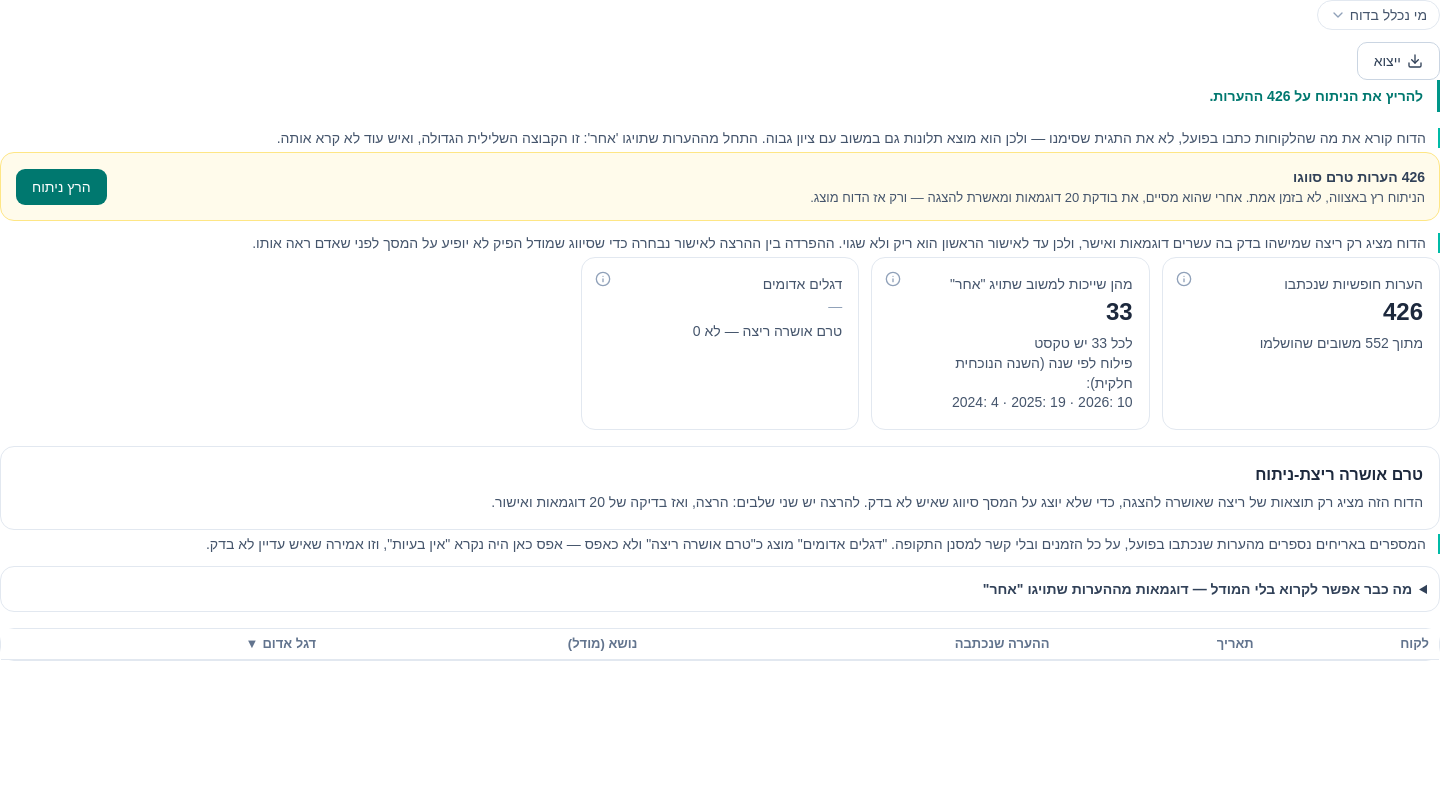
מ22 · ניתוח הערות + מ25 · פס-הניתוח › 409 "ריצת-ניתוח כבר פועלת" מציג את מצב-הריצה, ולא ריצה שנכשלה
Click the button with test id "m25-run-button" at (61, 187), box [15,168,108,206]
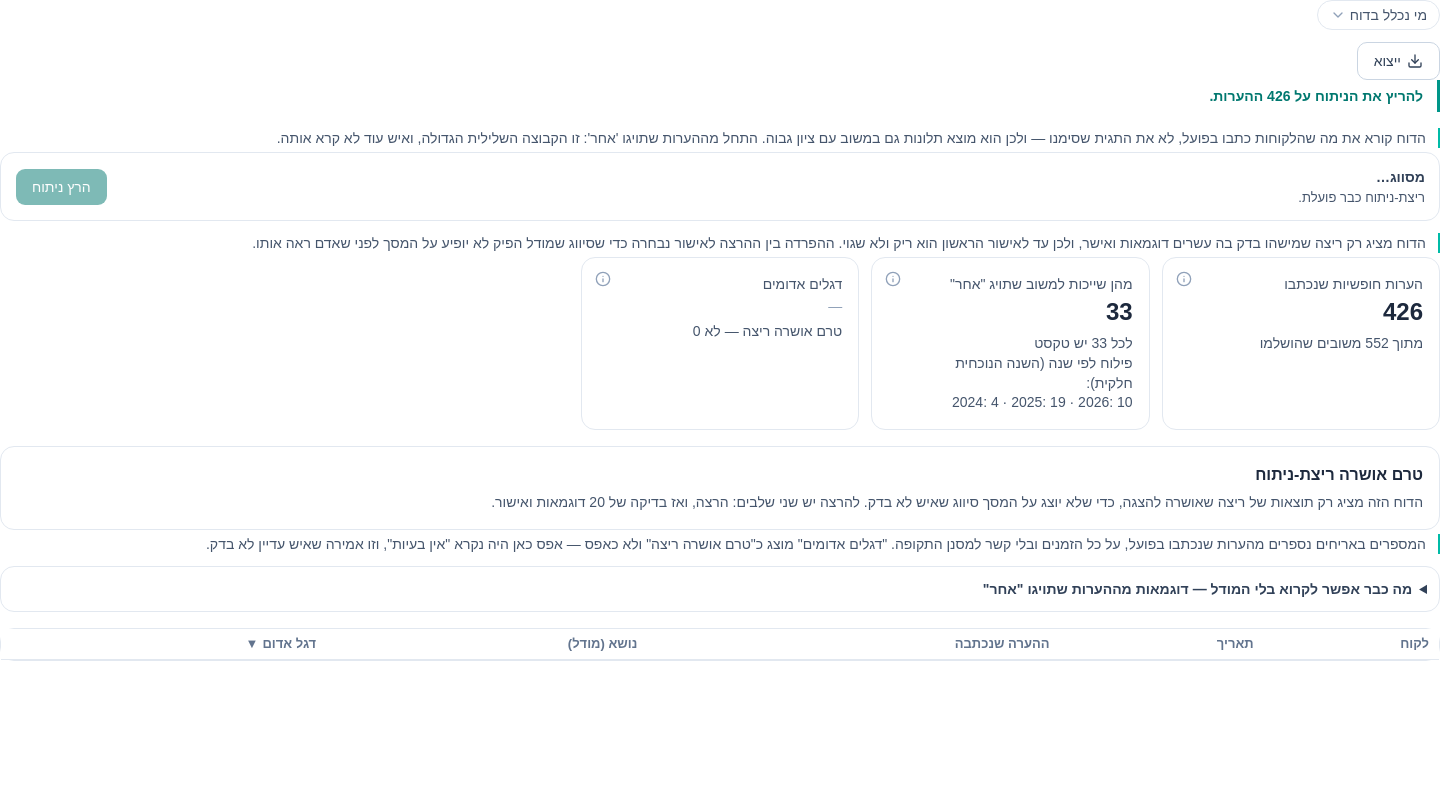
Result: the element with test id "m25-run-bar" shows "ריצת-ניתוח כבר פועלת." at [1298,190,1425,205]
Result: the text with test id "m25-run-text" reads "מסווג…" at [1376,169,1425,185]
Result: the button with test id "m25-run-button" is disabled at [15,168,108,206]
